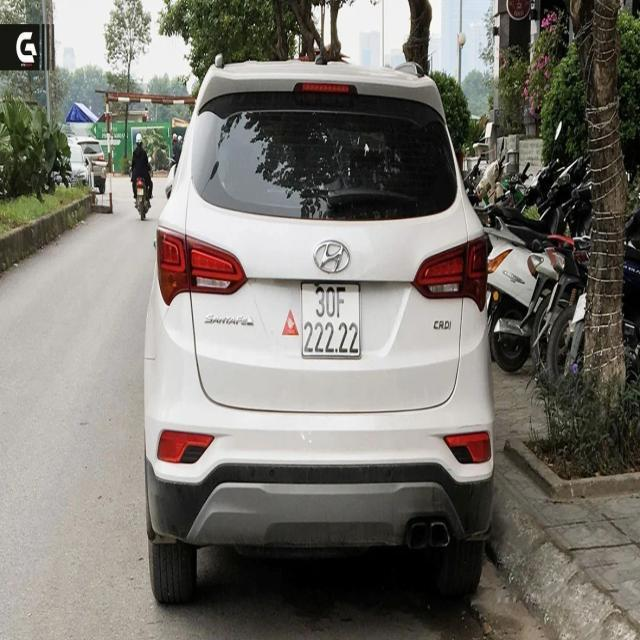car: (150, 49, 500, 510)
motorcycle: (480, 214, 591, 386)
plate: (290, 274, 369, 363)
